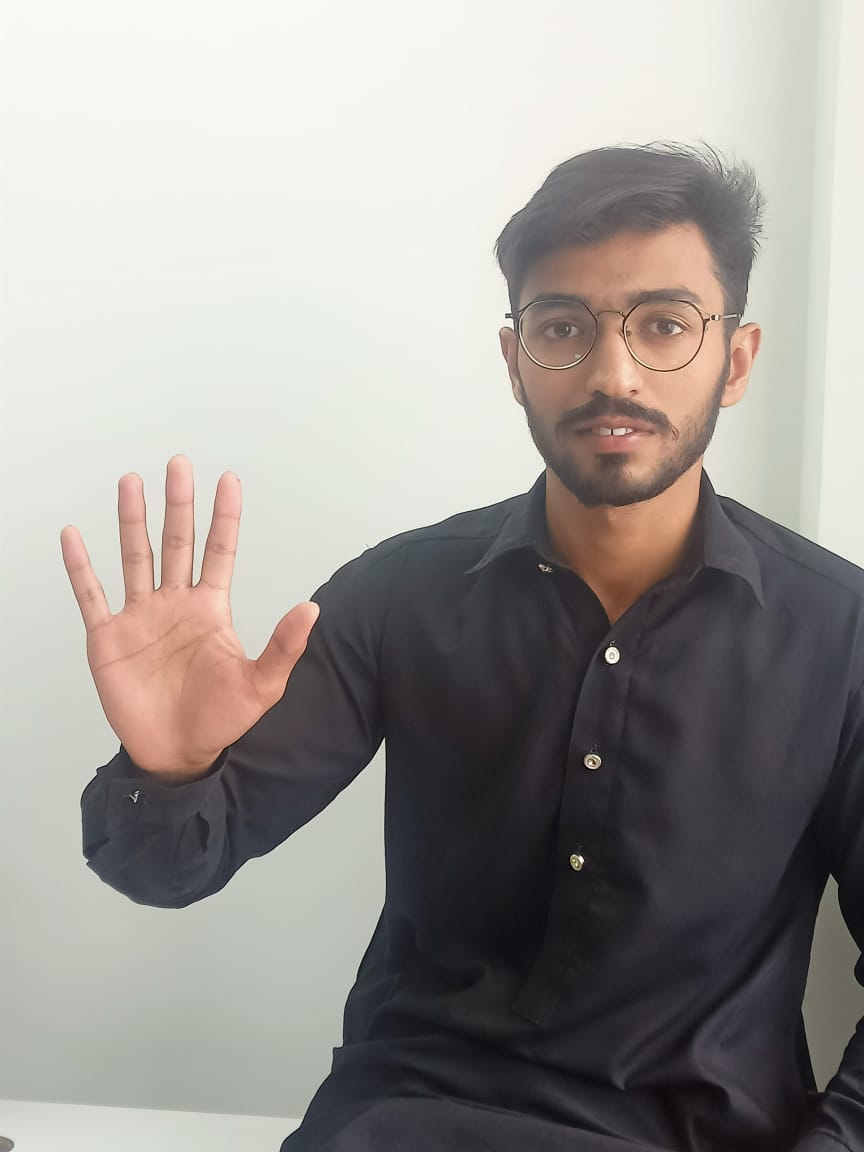Hello: (19, 441, 347, 786)
